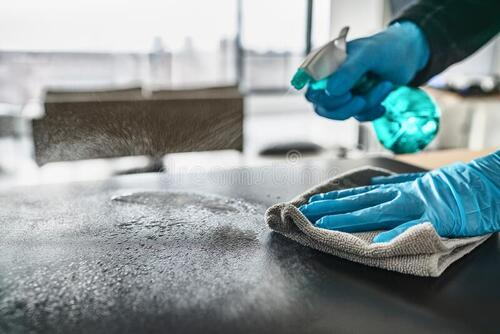sanitizer: (291, 22, 447, 155)
